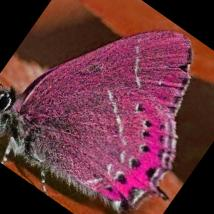butterfly: (0, 31, 192, 213)
